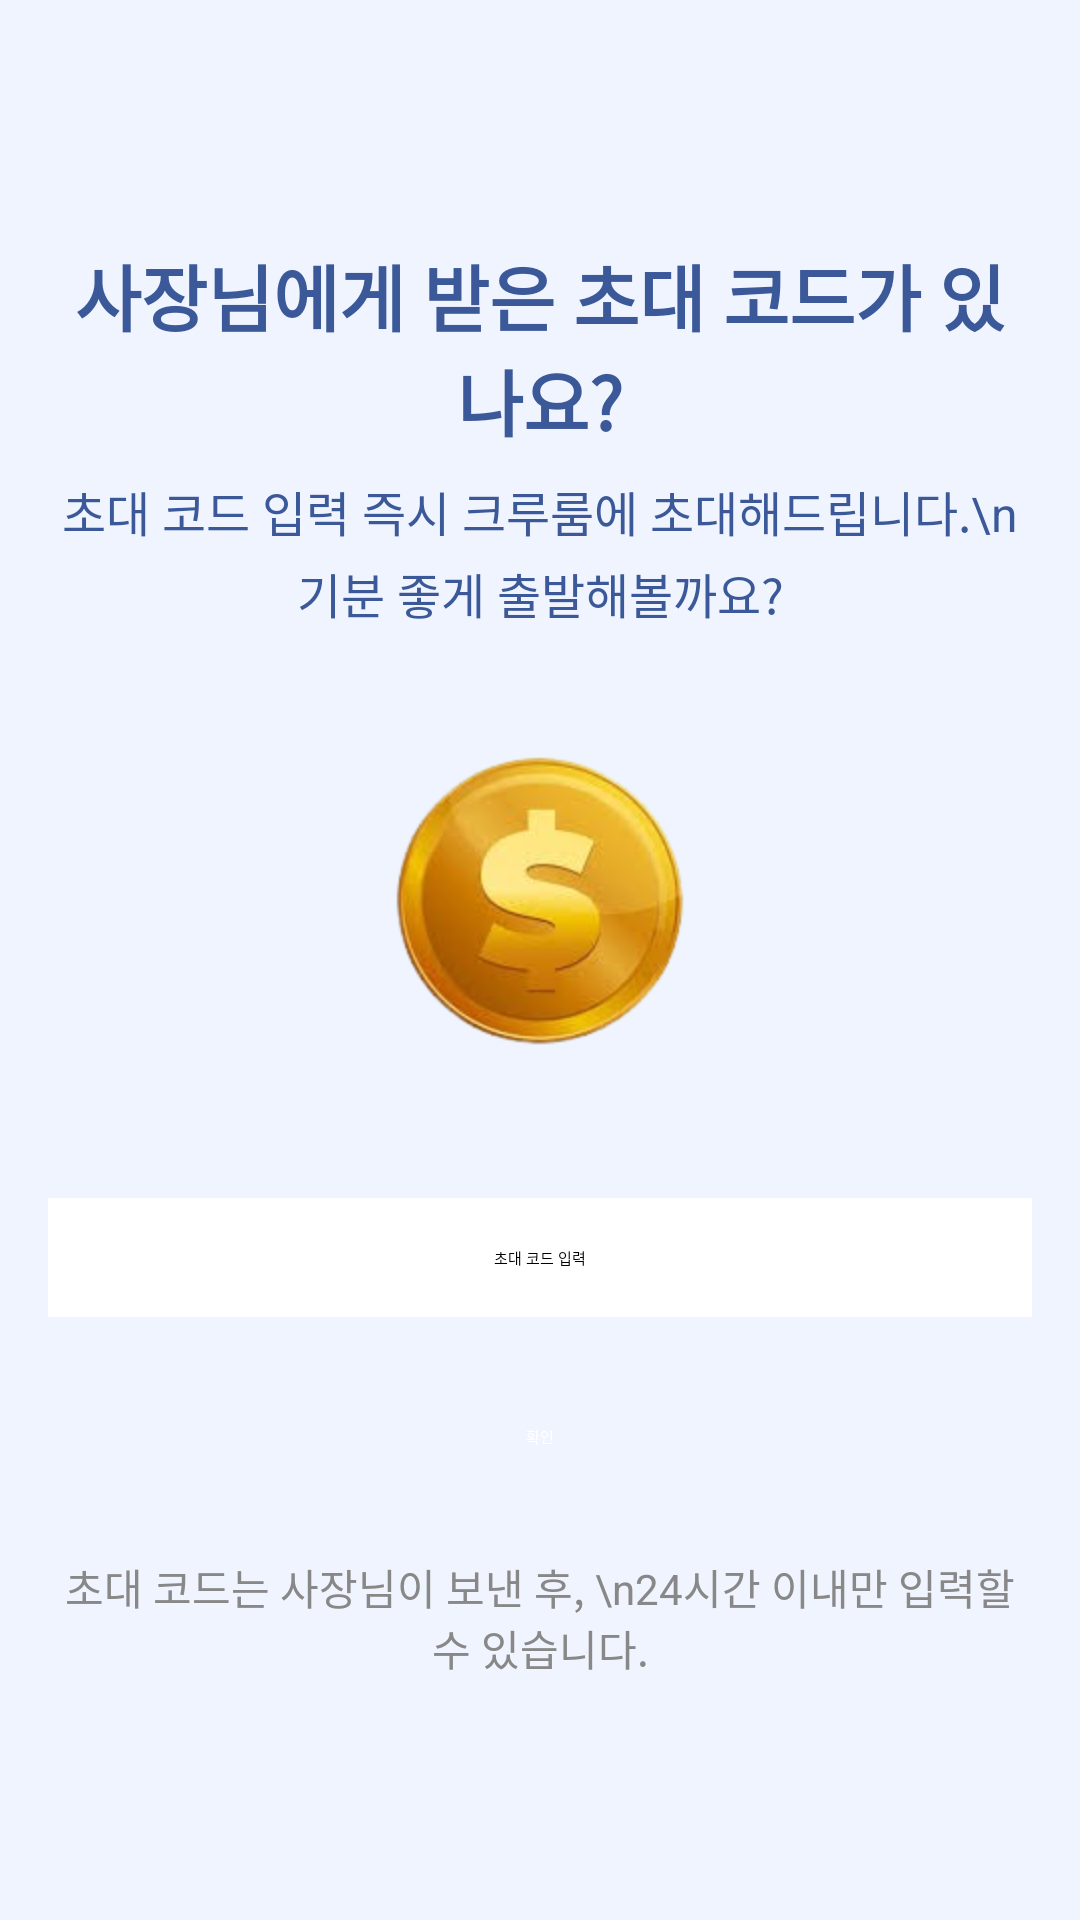

Named icons in this screenshot (1080px×1920px) and their centers, point (x, y):
coin: point (540, 901)
